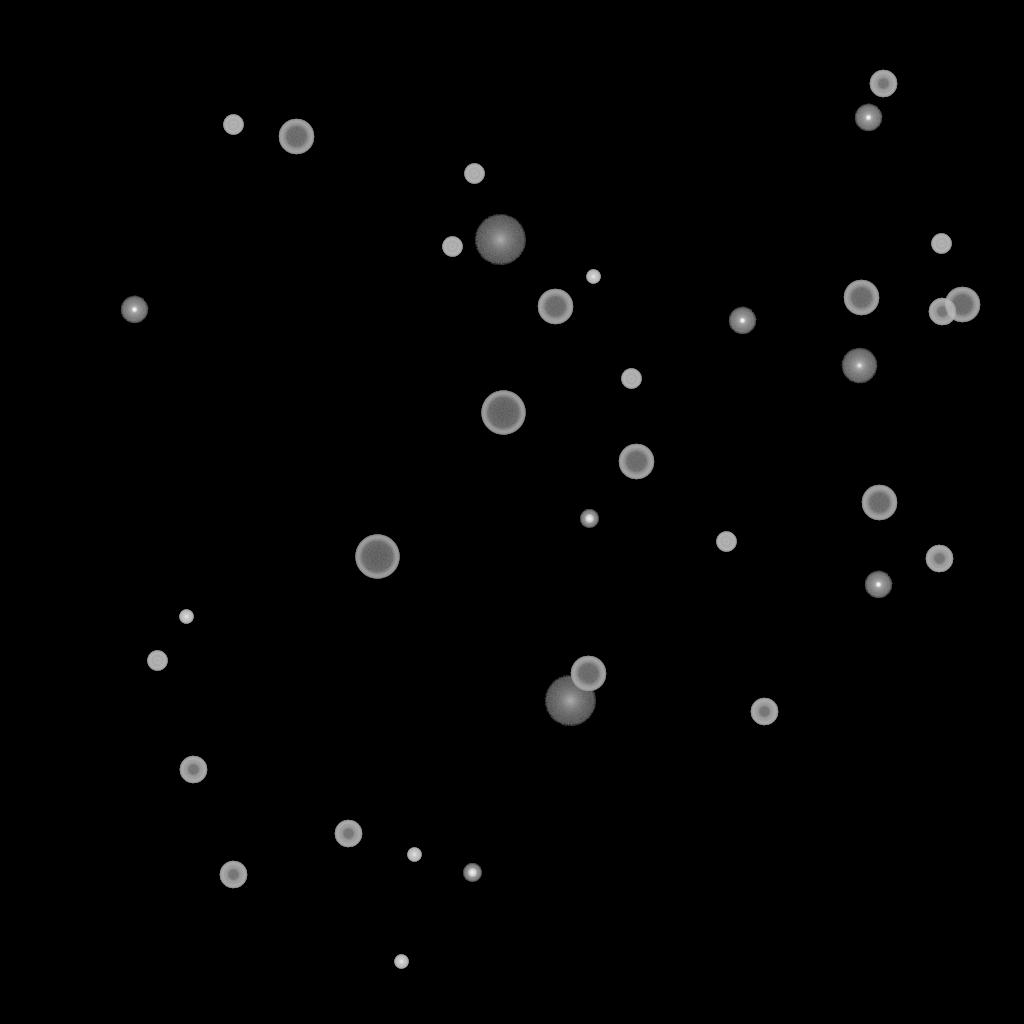depth:-10: (728, 307, 756, 335), (854, 104, 882, 132), (864, 571, 892, 599), (120, 296, 148, 324)
depth:-20: (580, 510, 598, 528), (463, 864, 481, 882)
depth:-30: (179, 610, 193, 624), (394, 955, 408, 969), (407, 848, 421, 862), (586, 270, 600, 284)
depth:-40: (621, 369, 641, 389), (223, 115, 243, 135), (716, 532, 736, 552), (442, 237, 462, 257), (931, 234, 951, 254), (464, 164, 484, 184), (147, 651, 167, 671)
depth:-50: (869, 70, 897, 98), (750, 698, 778, 726), (219, 861, 247, 889), (179, 756, 207, 784), (925, 545, 953, 573), (928, 298, 956, 326), (334, 820, 362, 848)
depth:-60: (843, 280, 879, 316), (537, 289, 573, 325), (278, 119, 314, 155), (570, 656, 606, 692), (618, 444, 654, 480), (944, 287, 980, 323), (861, 485, 897, 521)
depth:-70: (355, 535, 399, 579), (481, 391, 525, 435)
depth:0: (841, 348, 877, 384)
depth:20: (474, 215, 526, 265), (544, 676, 596, 726)
